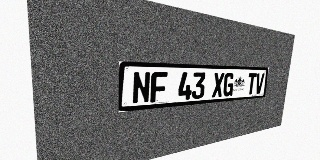3: (191, 72, 206, 99)
4: (178, 72, 193, 100)
F: (150, 72, 168, 103)
G: (223, 73, 235, 97)
N: (132, 71, 151, 104)
T: (246, 73, 257, 95)
V: (255, 73, 265, 94)
X: (212, 73, 225, 98)
